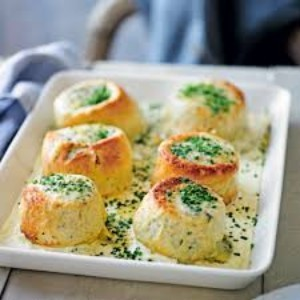cheese_brain food: (23, 181, 94, 240), (152, 191, 217, 247), (48, 128, 122, 170)
